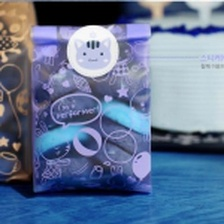snack: (23, 16, 158, 200), (0, 0, 44, 188)
